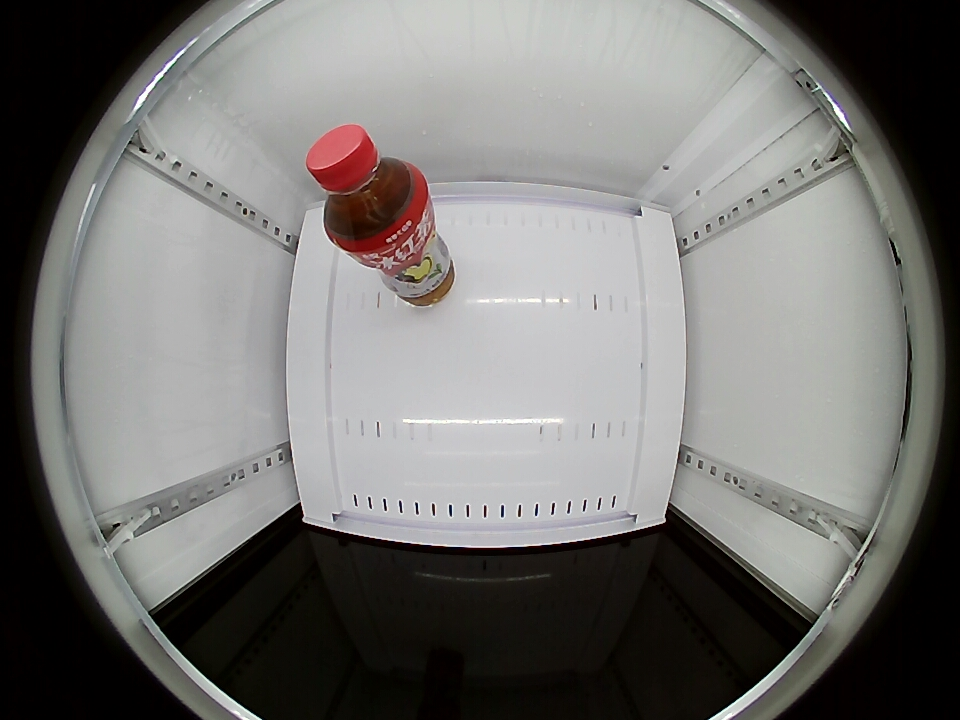binghongcha: (306, 124, 429, 253)
